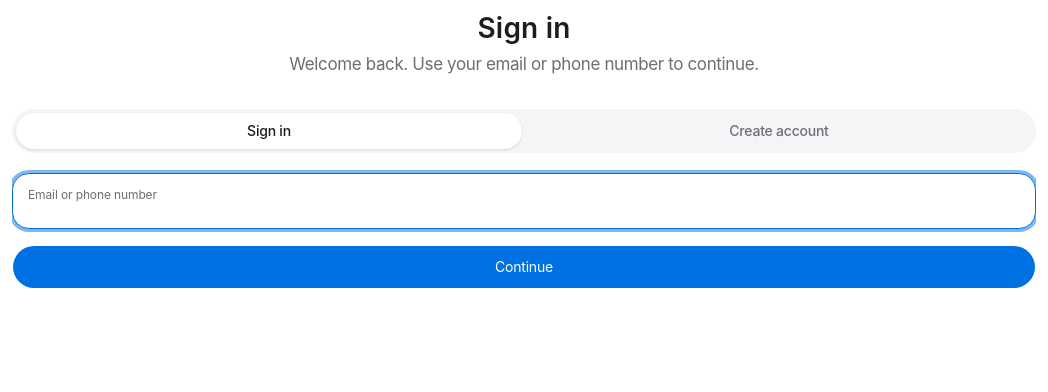
Test: SignInFlow: signing up › keeps the password step when signing in
This screenshot has width=1048, height=392.
Type "ada@example.com" into the field labelled "Email or phone number" at (524, 201), box [12,173,1036,229]
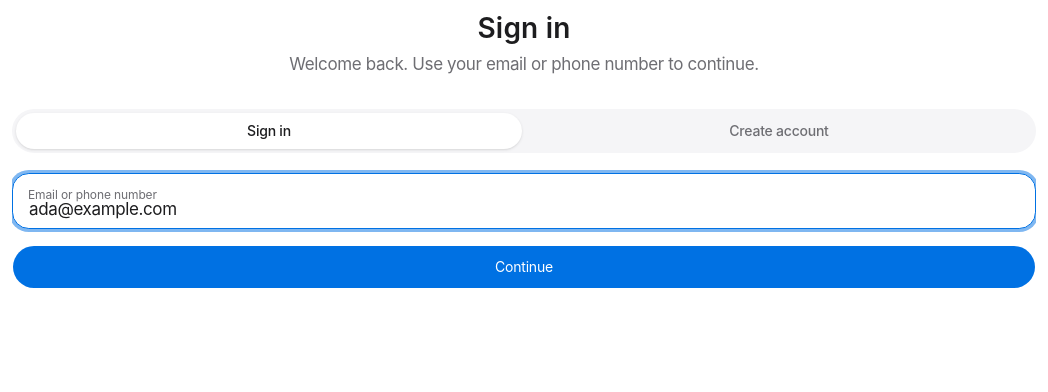
Click the button "Continue" at (524, 267), box [12,245,1036,289]
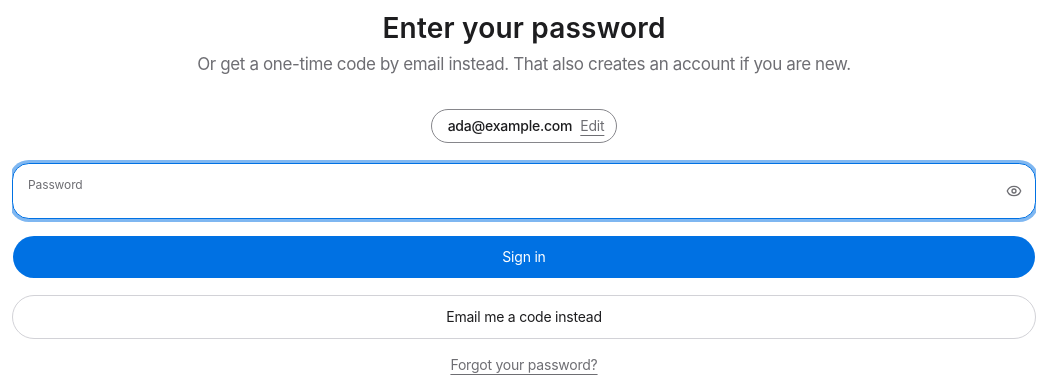
Now the heading "Enter your password" is shown, box [382,11,666,45]
